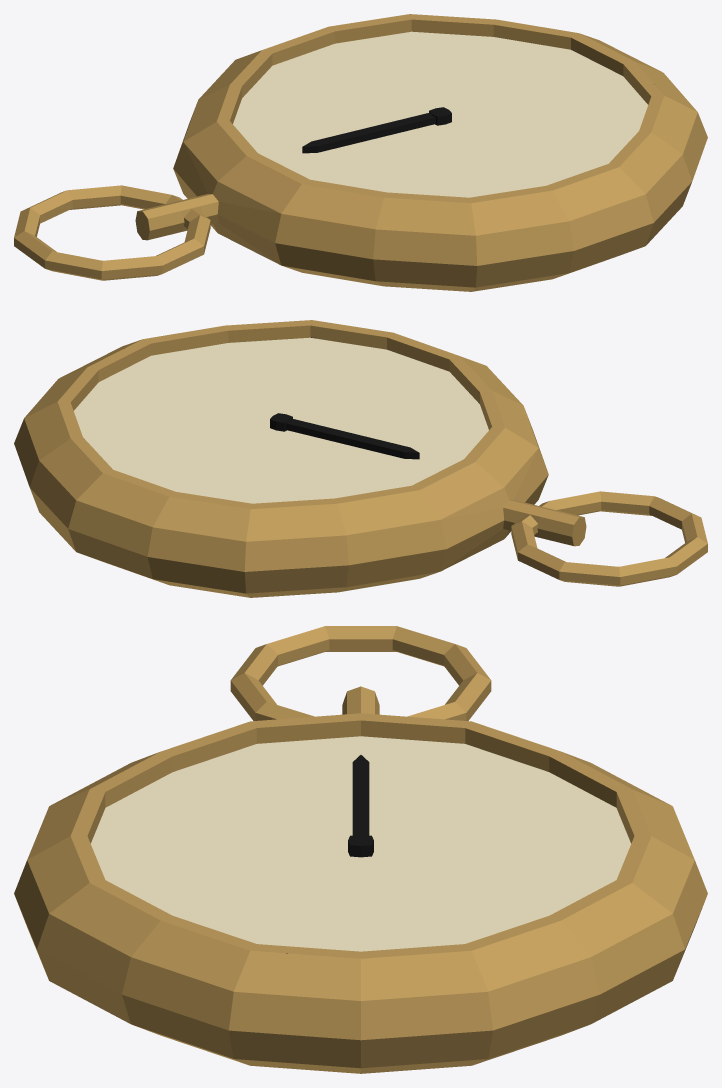
The model's file is Stopwatch.fbx.
3 views of the same model, one above another, from view 1: azimuth 30°, elevation 25°; view 2: azimuth 150°, elevation 25°; view 3: azimuth 270°, elevation 25° (orthographic). The views are drawn at different scales.
Parts seen in each view (by area): view 1: Stopwatch; view 2: Stopwatch; view 3: Stopwatch.
Part boxes in pixels (box(x1,y1,x2,y2)): Stopwatch: box(14, 14, 707, 291); Stopwatch: box(14, 320, 707, 597); Stopwatch: box(14, 626, 707, 1073).
Bounding box in the file's own units: 42.77 × 5.64 × 30.84.
1 material, 1 textured.
